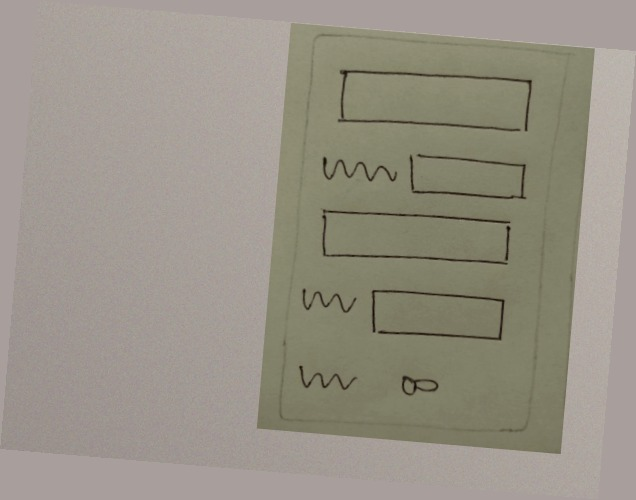switch: (390, 367, 448, 403)
text: (315, 151, 401, 192), (290, 358, 362, 399), (296, 283, 363, 323)
text_input: (330, 60, 536, 143), (311, 200, 521, 276), (362, 282, 515, 349), (403, 147, 533, 206)
